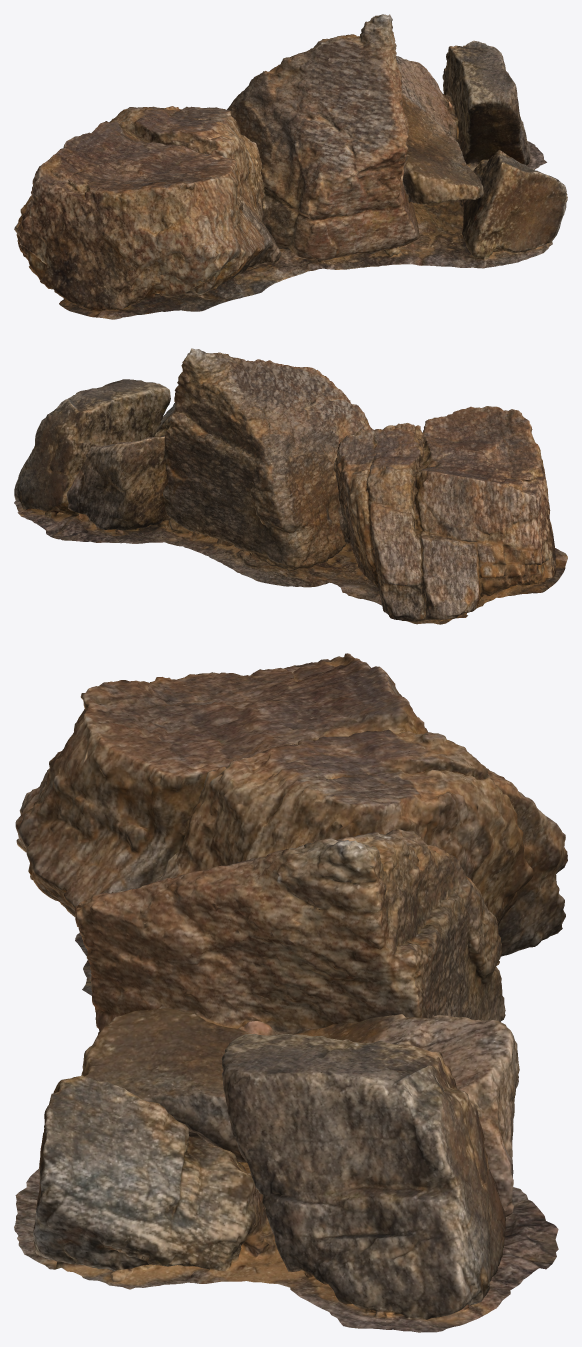
File: namaqualand_boulder_02.glb
3 renders of one model, top to bottom at view 1: azimuth 30°, elevation 25°; view 2: azimuth 150°, elevation 25°; view 3: azimuth 270°, elevation 25°, orthographic. The views are drawn at different scales.
Visible parts, largest first — view 1: boulder_02; view 2: boulder_02; view 3: boulder_02.
Part boxes in pixels (x1,y1,x2,y2): boulder_02: [14, 14, 567, 319]; boulder_02: [14, 348, 567, 624]; boulder_02: [14, 653, 567, 1332].
Bounding box in the file's own units: 2.53 × 0.8826 × 1.23.
Materials: 1 (1 with a texture image).
